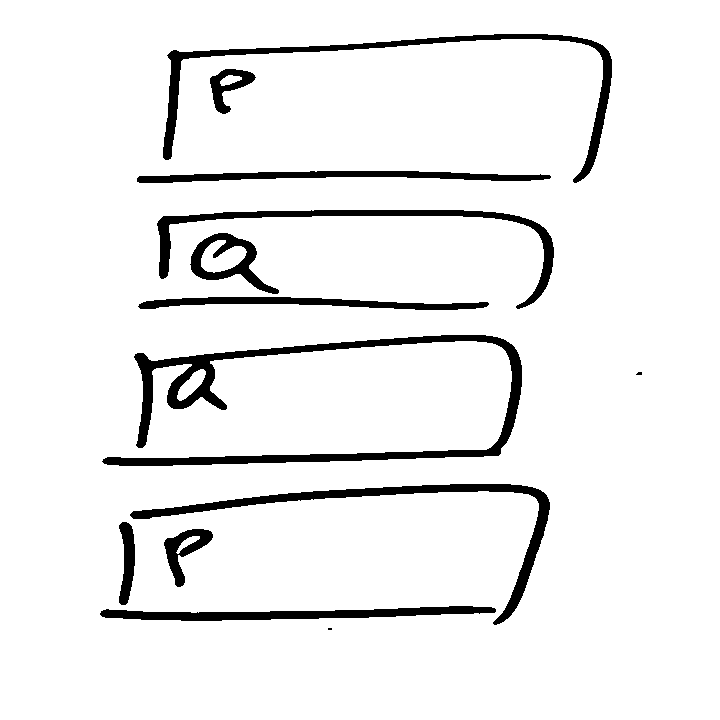paragraph: (143, 30, 615, 198), (99, 483, 553, 632)
search bar: (106, 331, 529, 467), (138, 204, 558, 321)
